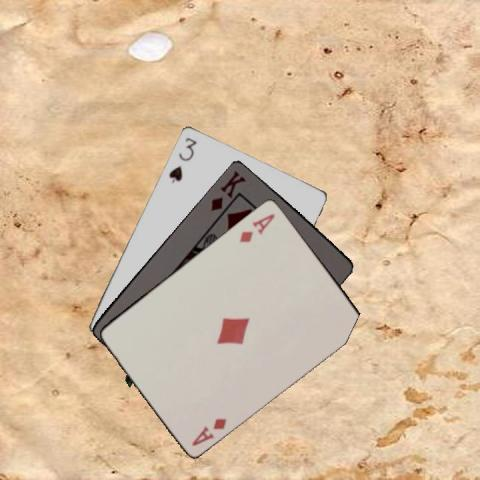3s: (166, 134, 197, 184)
Ad: (236, 210, 277, 244), (189, 415, 228, 447)
Kd: (207, 167, 248, 213)
